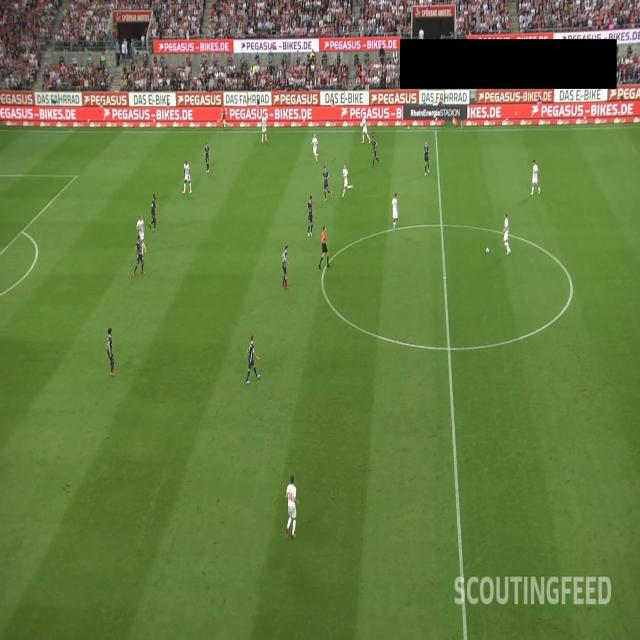ball: (485, 247, 490, 254)
